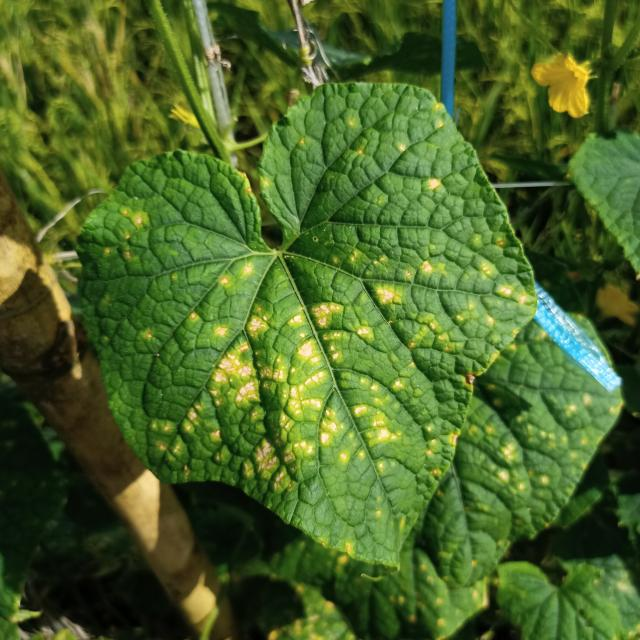disease_cucumber: (80, 122, 523, 530)
